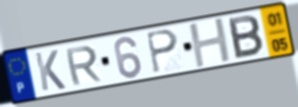6: (112, 34, 144, 80)
B: (226, 13, 265, 61)
H: (187, 15, 234, 70)
K: (33, 48, 68, 93)
P: (144, 28, 180, 76)
R: (63, 44, 104, 88)
